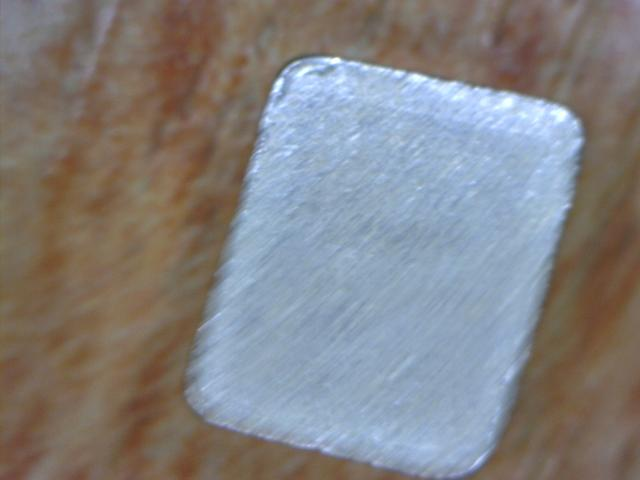ok: (179, 47, 598, 474)
